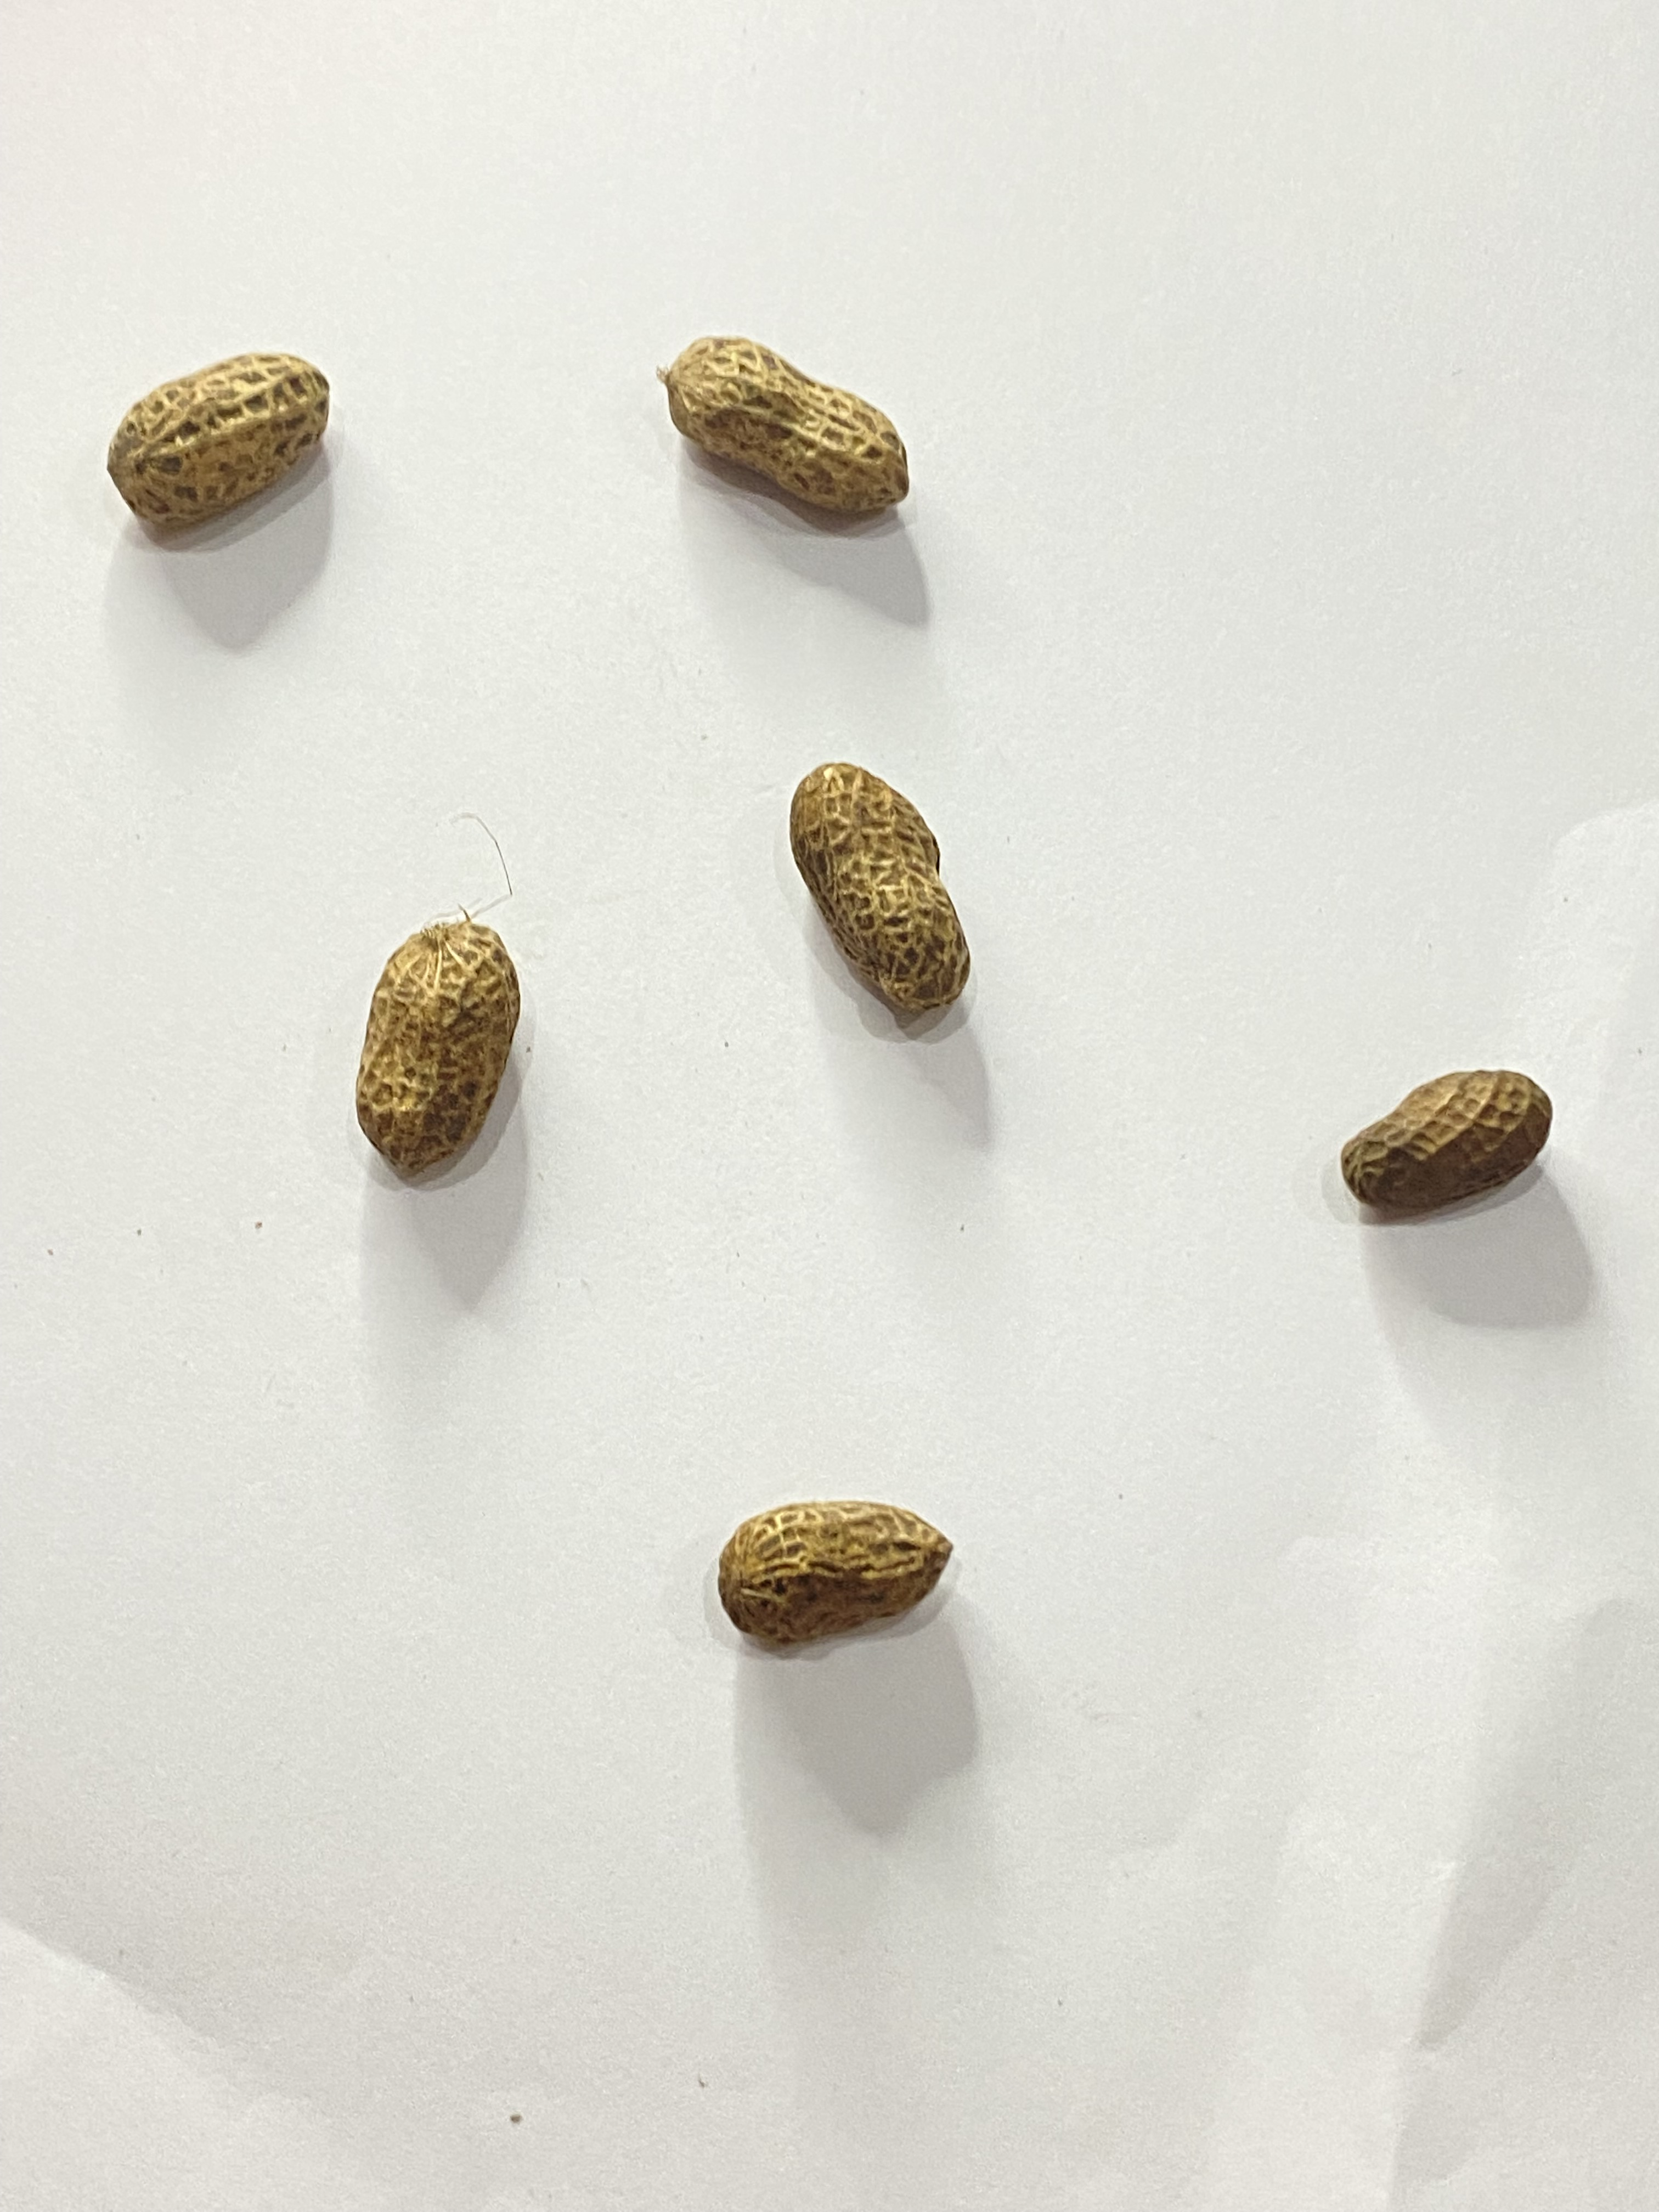kacang1: (662, 1474, 1023, 1658), (91, 331, 389, 550), (1321, 1043, 1572, 1237)
kacang2: (749, 756, 1006, 1024), (317, 900, 552, 1184), (653, 324, 941, 540)
